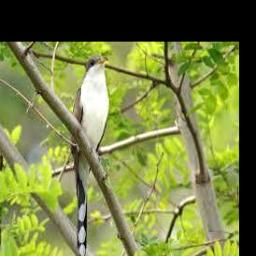Cuckoo: (71, 56, 111, 256)
